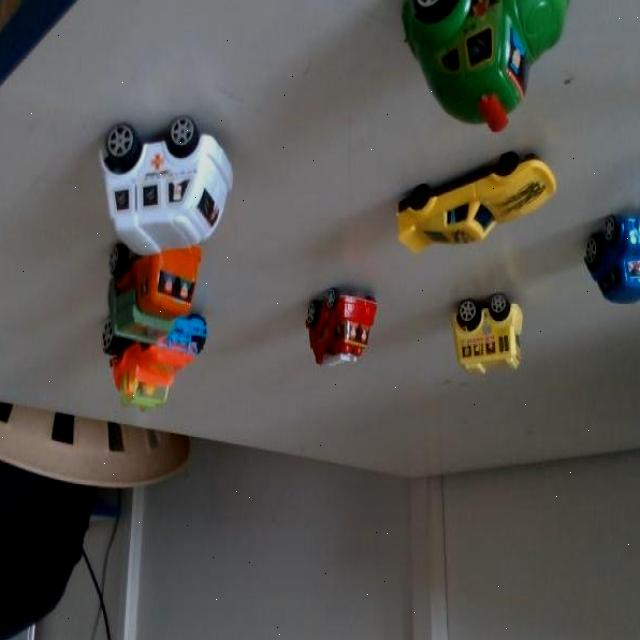car: (108, 89, 262, 278), (424, 0, 585, 124), (410, 138, 548, 264), (131, 307, 218, 417), (446, 276, 534, 379), (301, 268, 379, 382), (130, 232, 199, 353), (598, 204, 640, 307)
